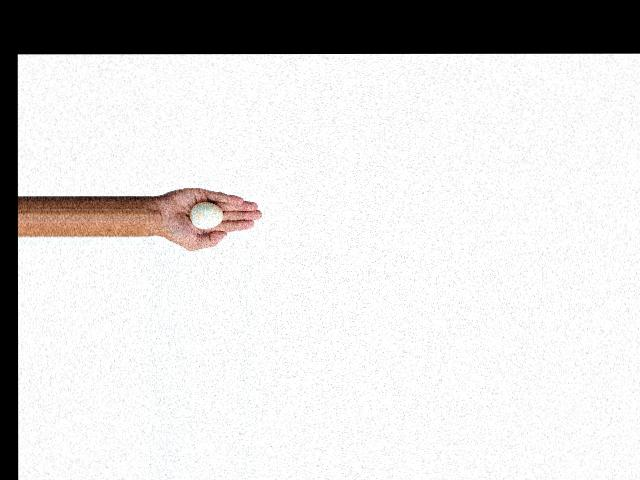egg: (190, 202, 224, 228)
